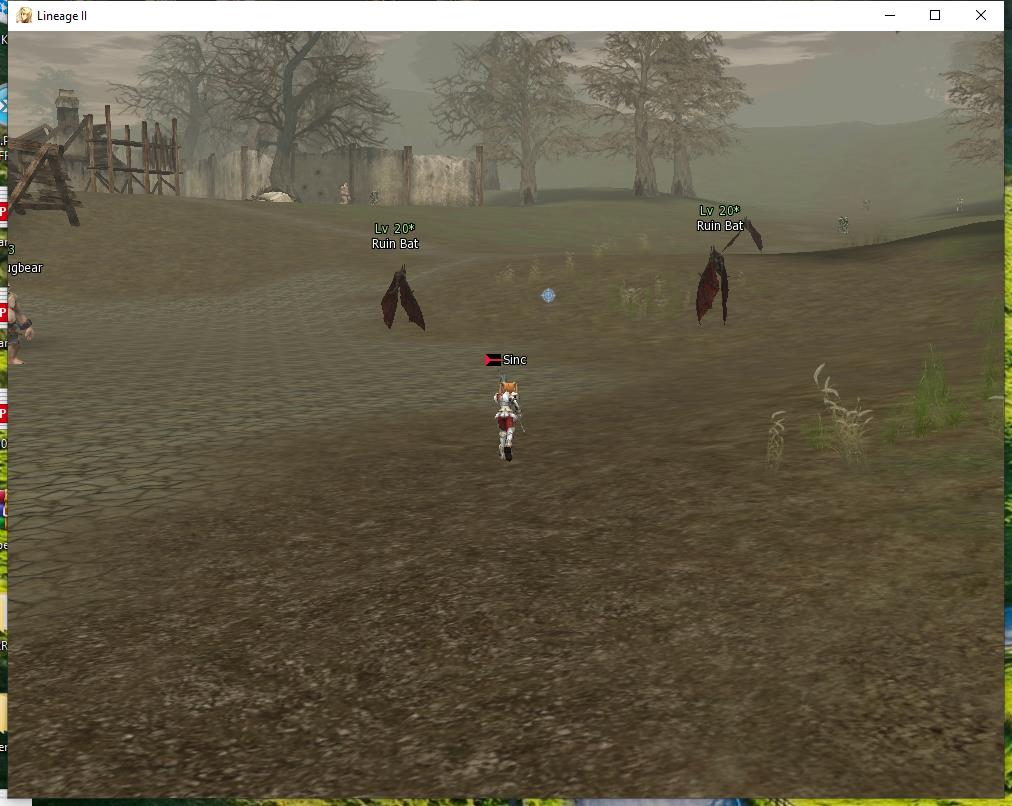monster: (361, 205, 449, 330), (691, 211, 741, 317), (8, 240, 45, 371), (730, 196, 766, 257), (831, 211, 857, 239), (335, 173, 350, 212), (854, 195, 874, 220), (367, 186, 382, 200)
